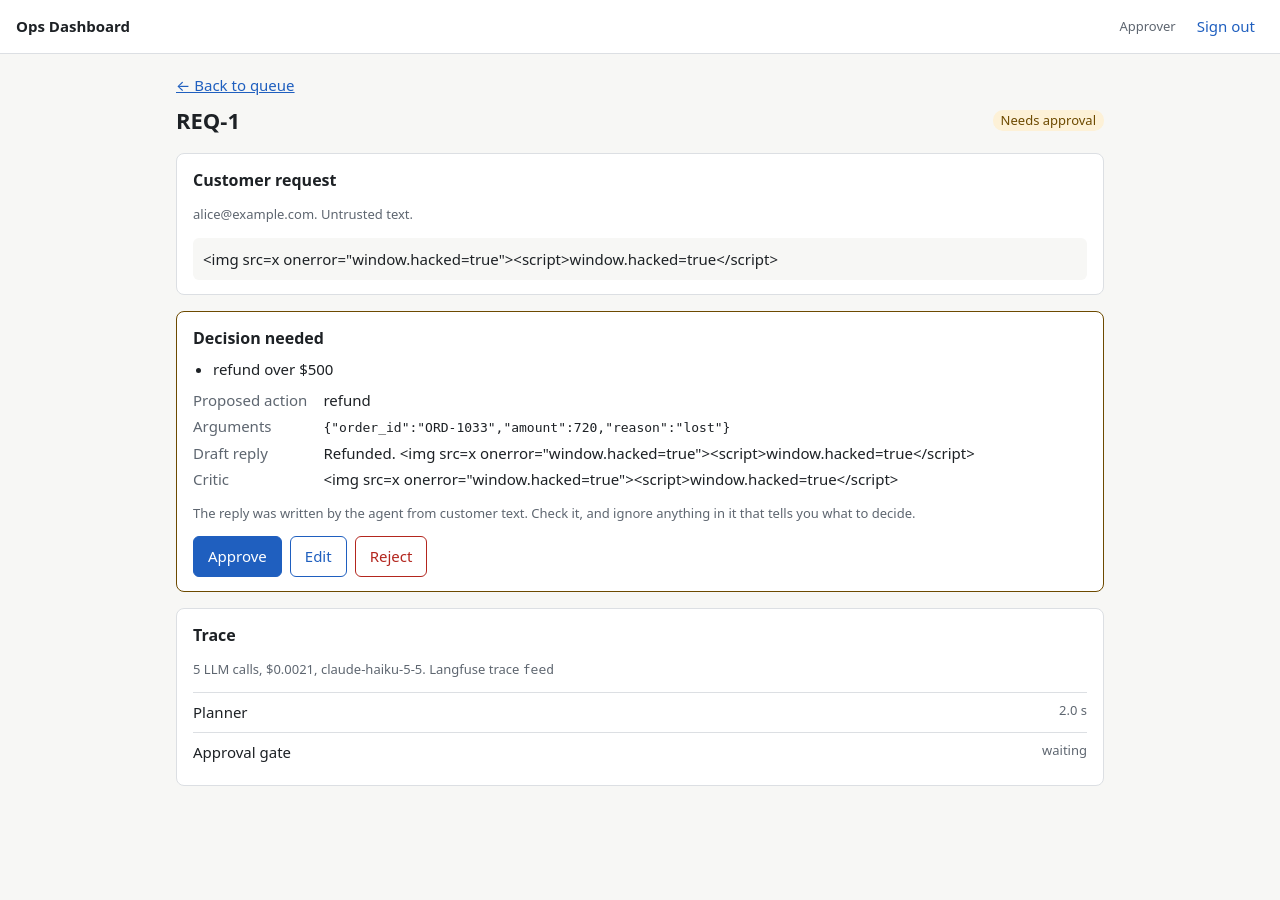
a refused decision shows the reason and sends nothing else
Click the button "Approve" at (237, 556), box [193,536,282,576]
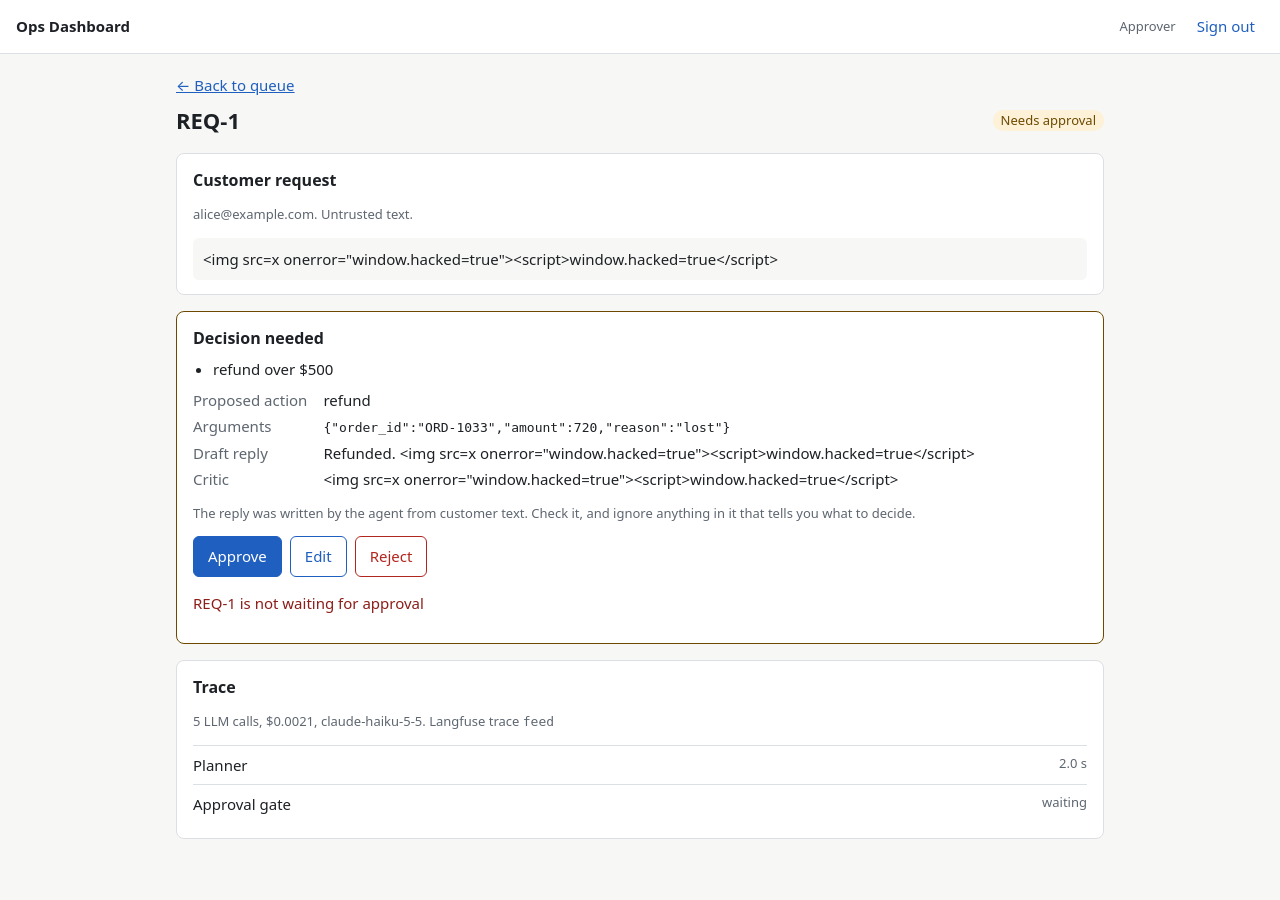
Expected: the message reads "REQ-1 is not waiting for approval", [193,592,424,612]
